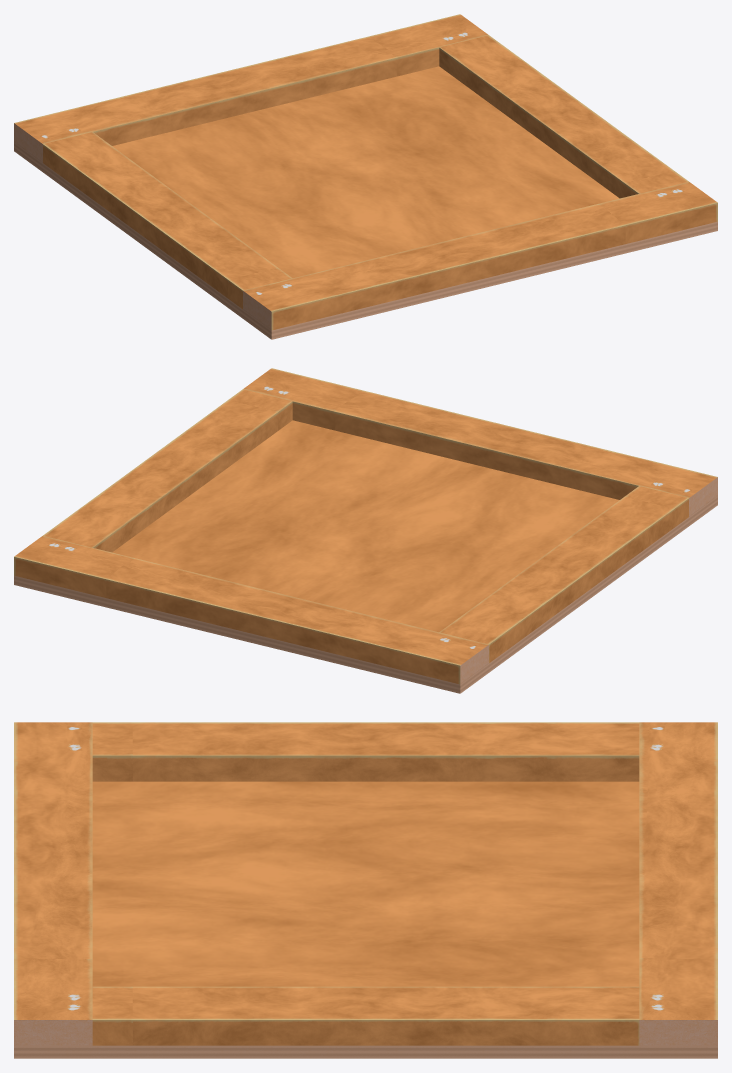
File: Container_1.fbx
3 renders of one model, top to bottom at view 1: azimuth 30°, elevation 25°; view 2: azimuth 150°, elevation 25°; view 3: azimuth 270°, elevation 25°, orthographic. The views are drawn at different scales.
Visible parts, largest first — view 1: Container_1; view 2: Container_1; view 3: Container_1.
Part boxes in pixels (<box>): Container_1: <box>14,14,717,339</box>; Container_1: <box>14,368,717,693</box>; Container_1: <box>14,722,717,1058</box>.
Bounding box in the file's own units: 2 × 0.1208 × 2.
